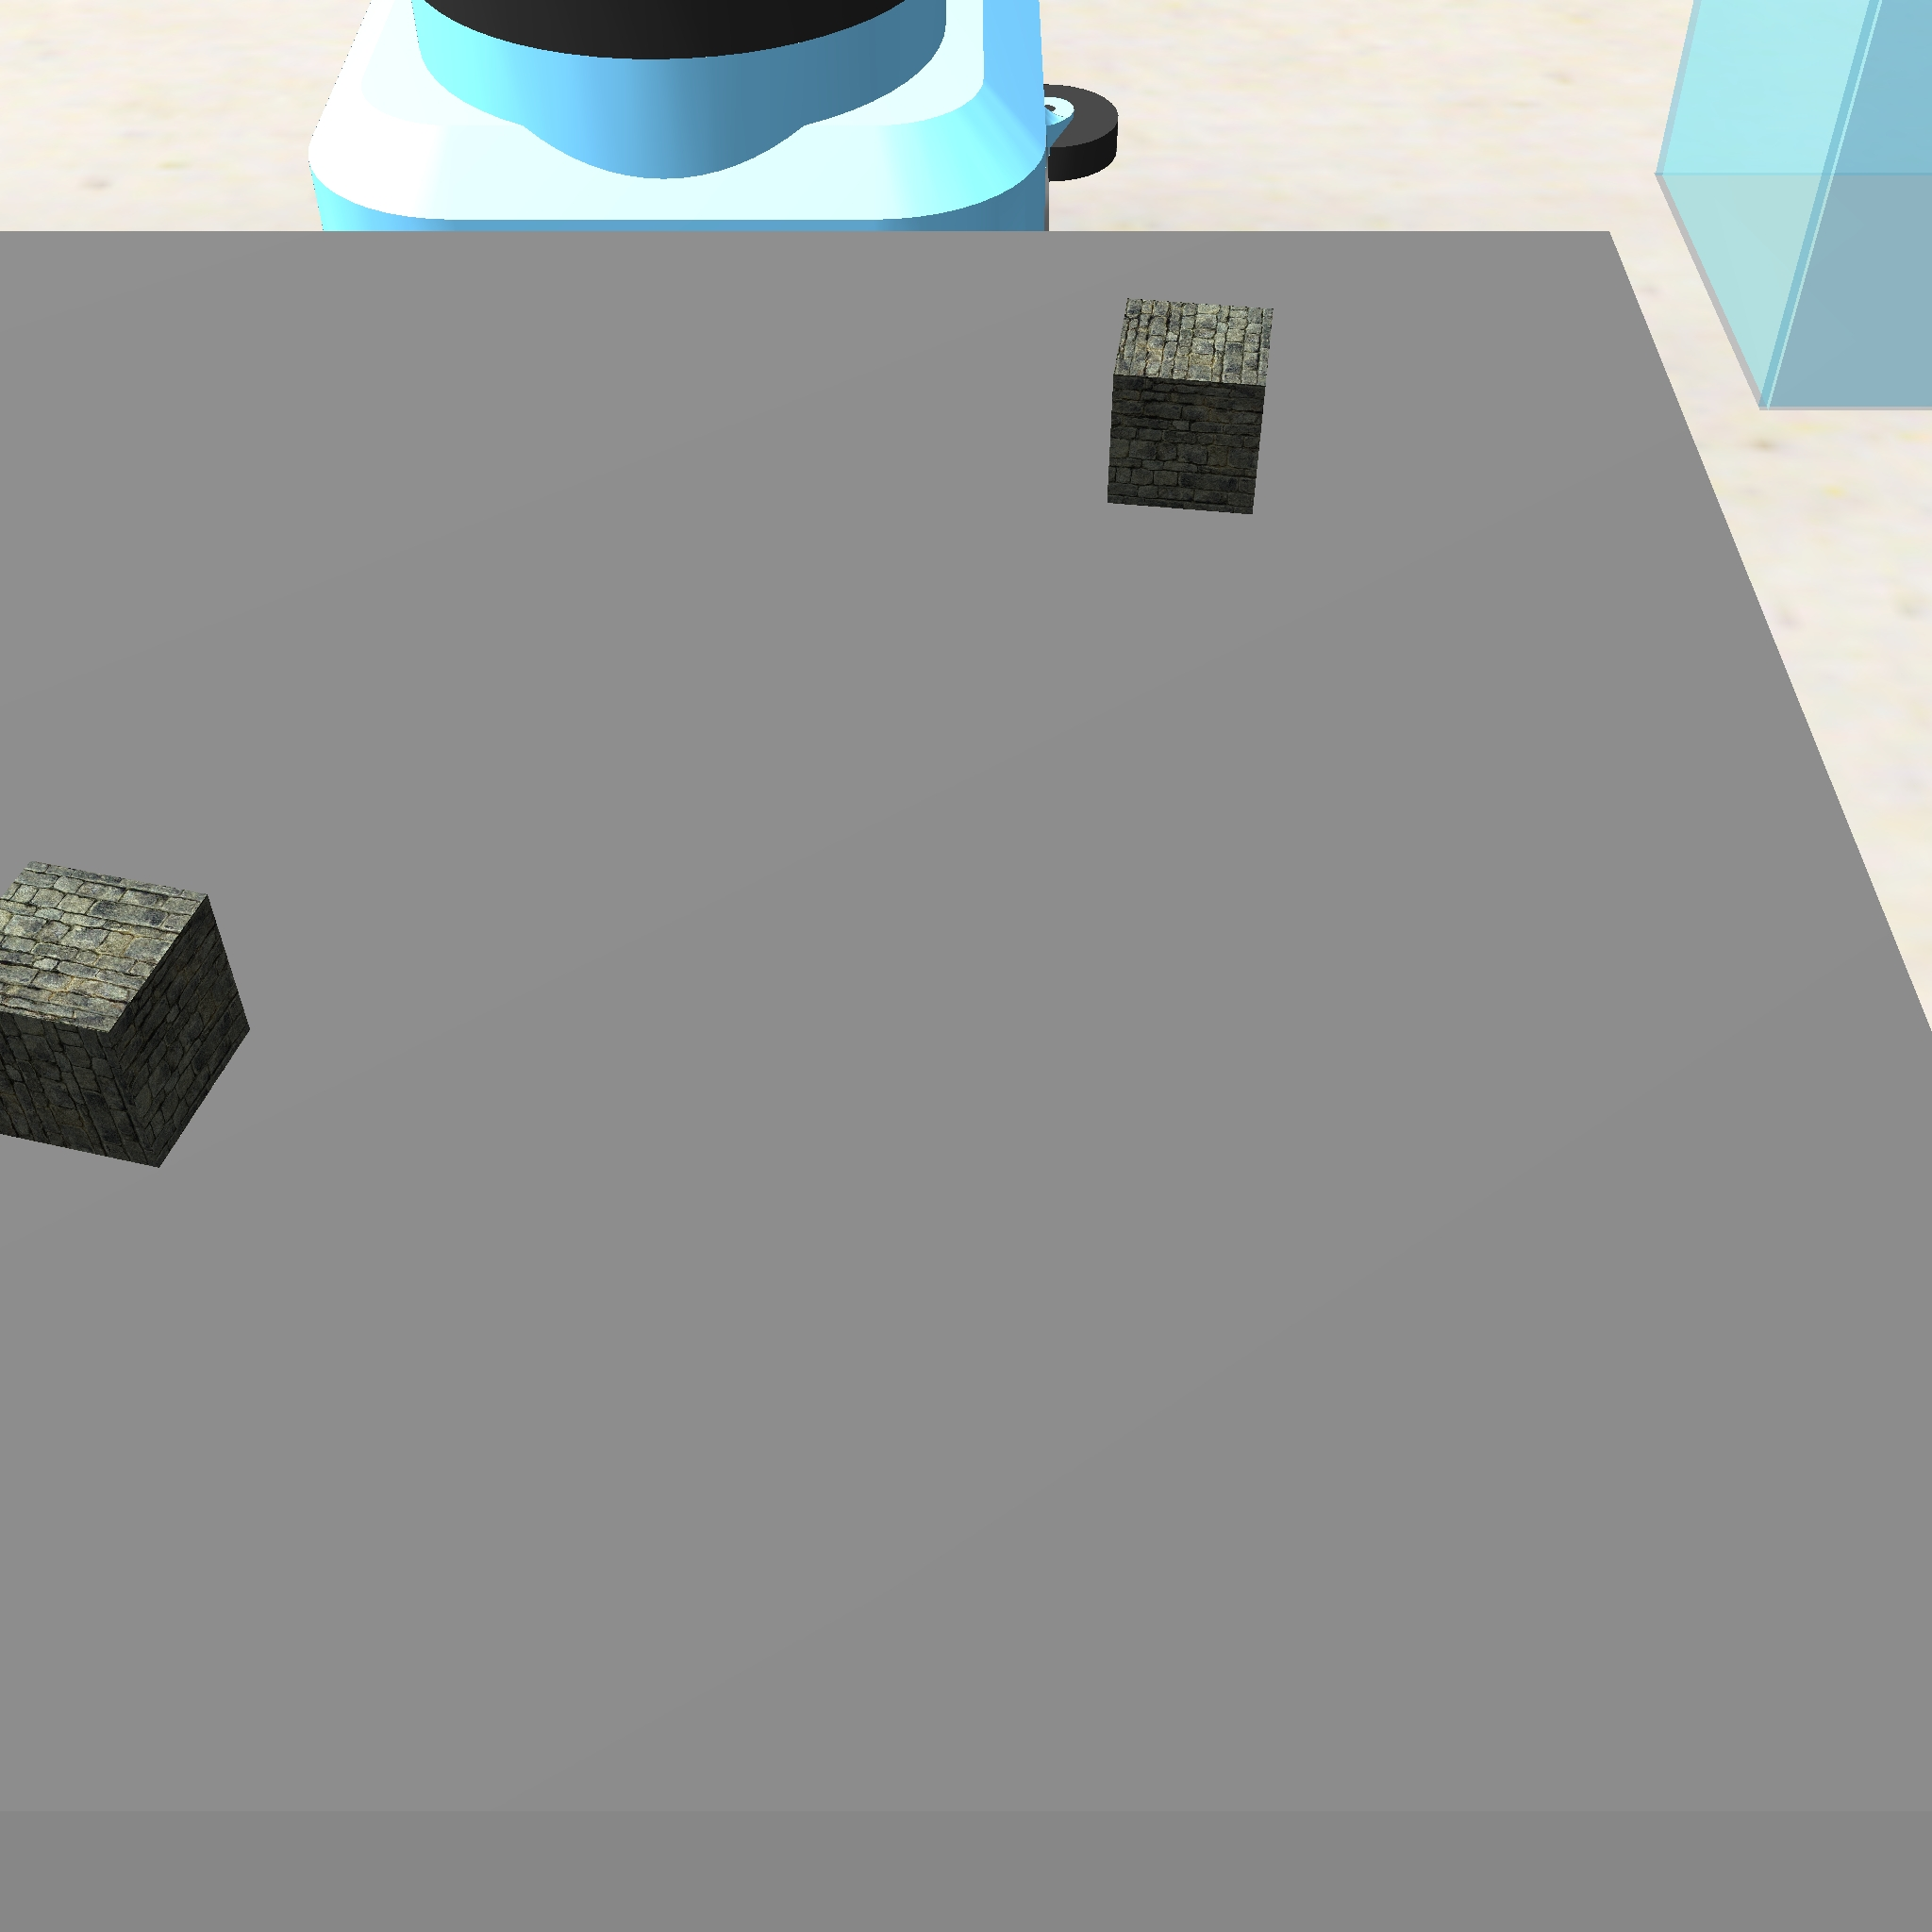cube: (2, 847, 265, 1185), (1099, 288, 1281, 538)
